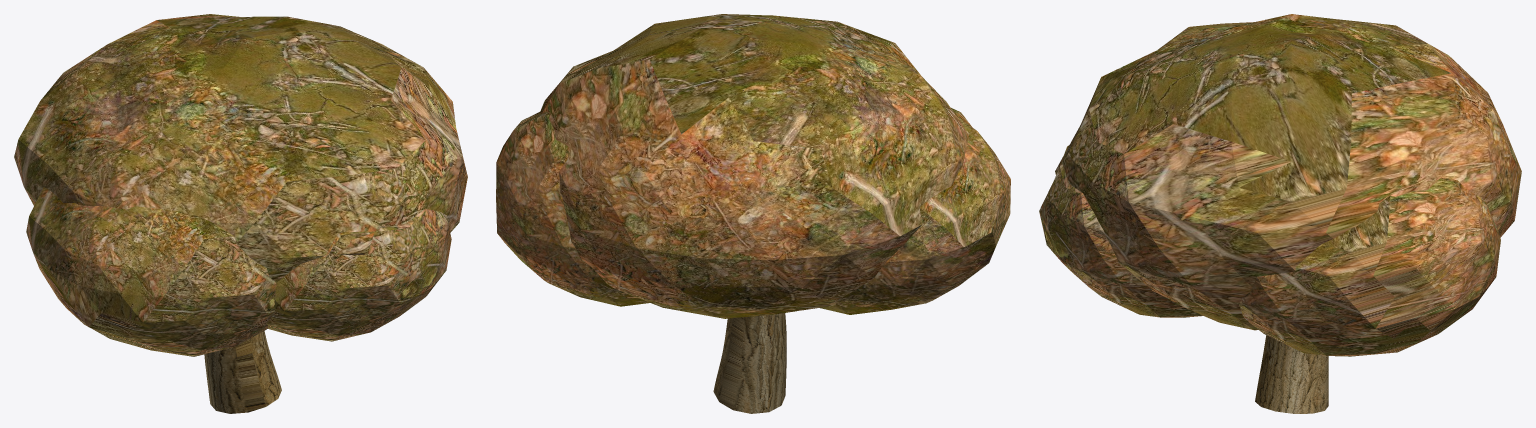
The model's file is mango_fruit_tree.glb.
3 renders of one model, left to right at view 1: azimuth 30°, elevation 25°; view 2: azimuth 150°, elevation 25°; view 3: azimuth 270°, elevation 25°, orthographic.
Visible parts, largest first — view 1: Mango_Dome_Center, Mango_Dome_West, Mango_Dome_South, Mango_Trunk; view 2: Mango_Dome_Center, Mango_Dome_West, Mango_Dome_East, Mango_Trunk; view 3: Mango_Dome_Center, Mango_Dome_East, Mango_Dome_South, Mango_Trunk.
Part boxes in pixels (x1,y1,x2,y2): Mango_Dome_Center: (14,14,467,282); Mango_Dome_West: (26,187,276,356); Mango_Dome_South: (266,208,451,341); Mango_Trunk: (204,331,281,413); Mango_Dome_Center: (540,14,968,318); Mango_Dome_West: (820,108,1010,314); Mango_Dome_East: (496,111,649,306); Mango_Trunk: (713,313,786,413); Mango_Dome_Center: (1055,14,1521,330); Mango_Dome_East: (1239,178,1500,356); Mango_Dome_South: (1039,145,1203,317); Mango_Trunk: (1255,335,1328,413).
Bounding box in the file's own units: 10.23 × 8.25 × 9.79.
Materials: 3 (2 with a texture image).
